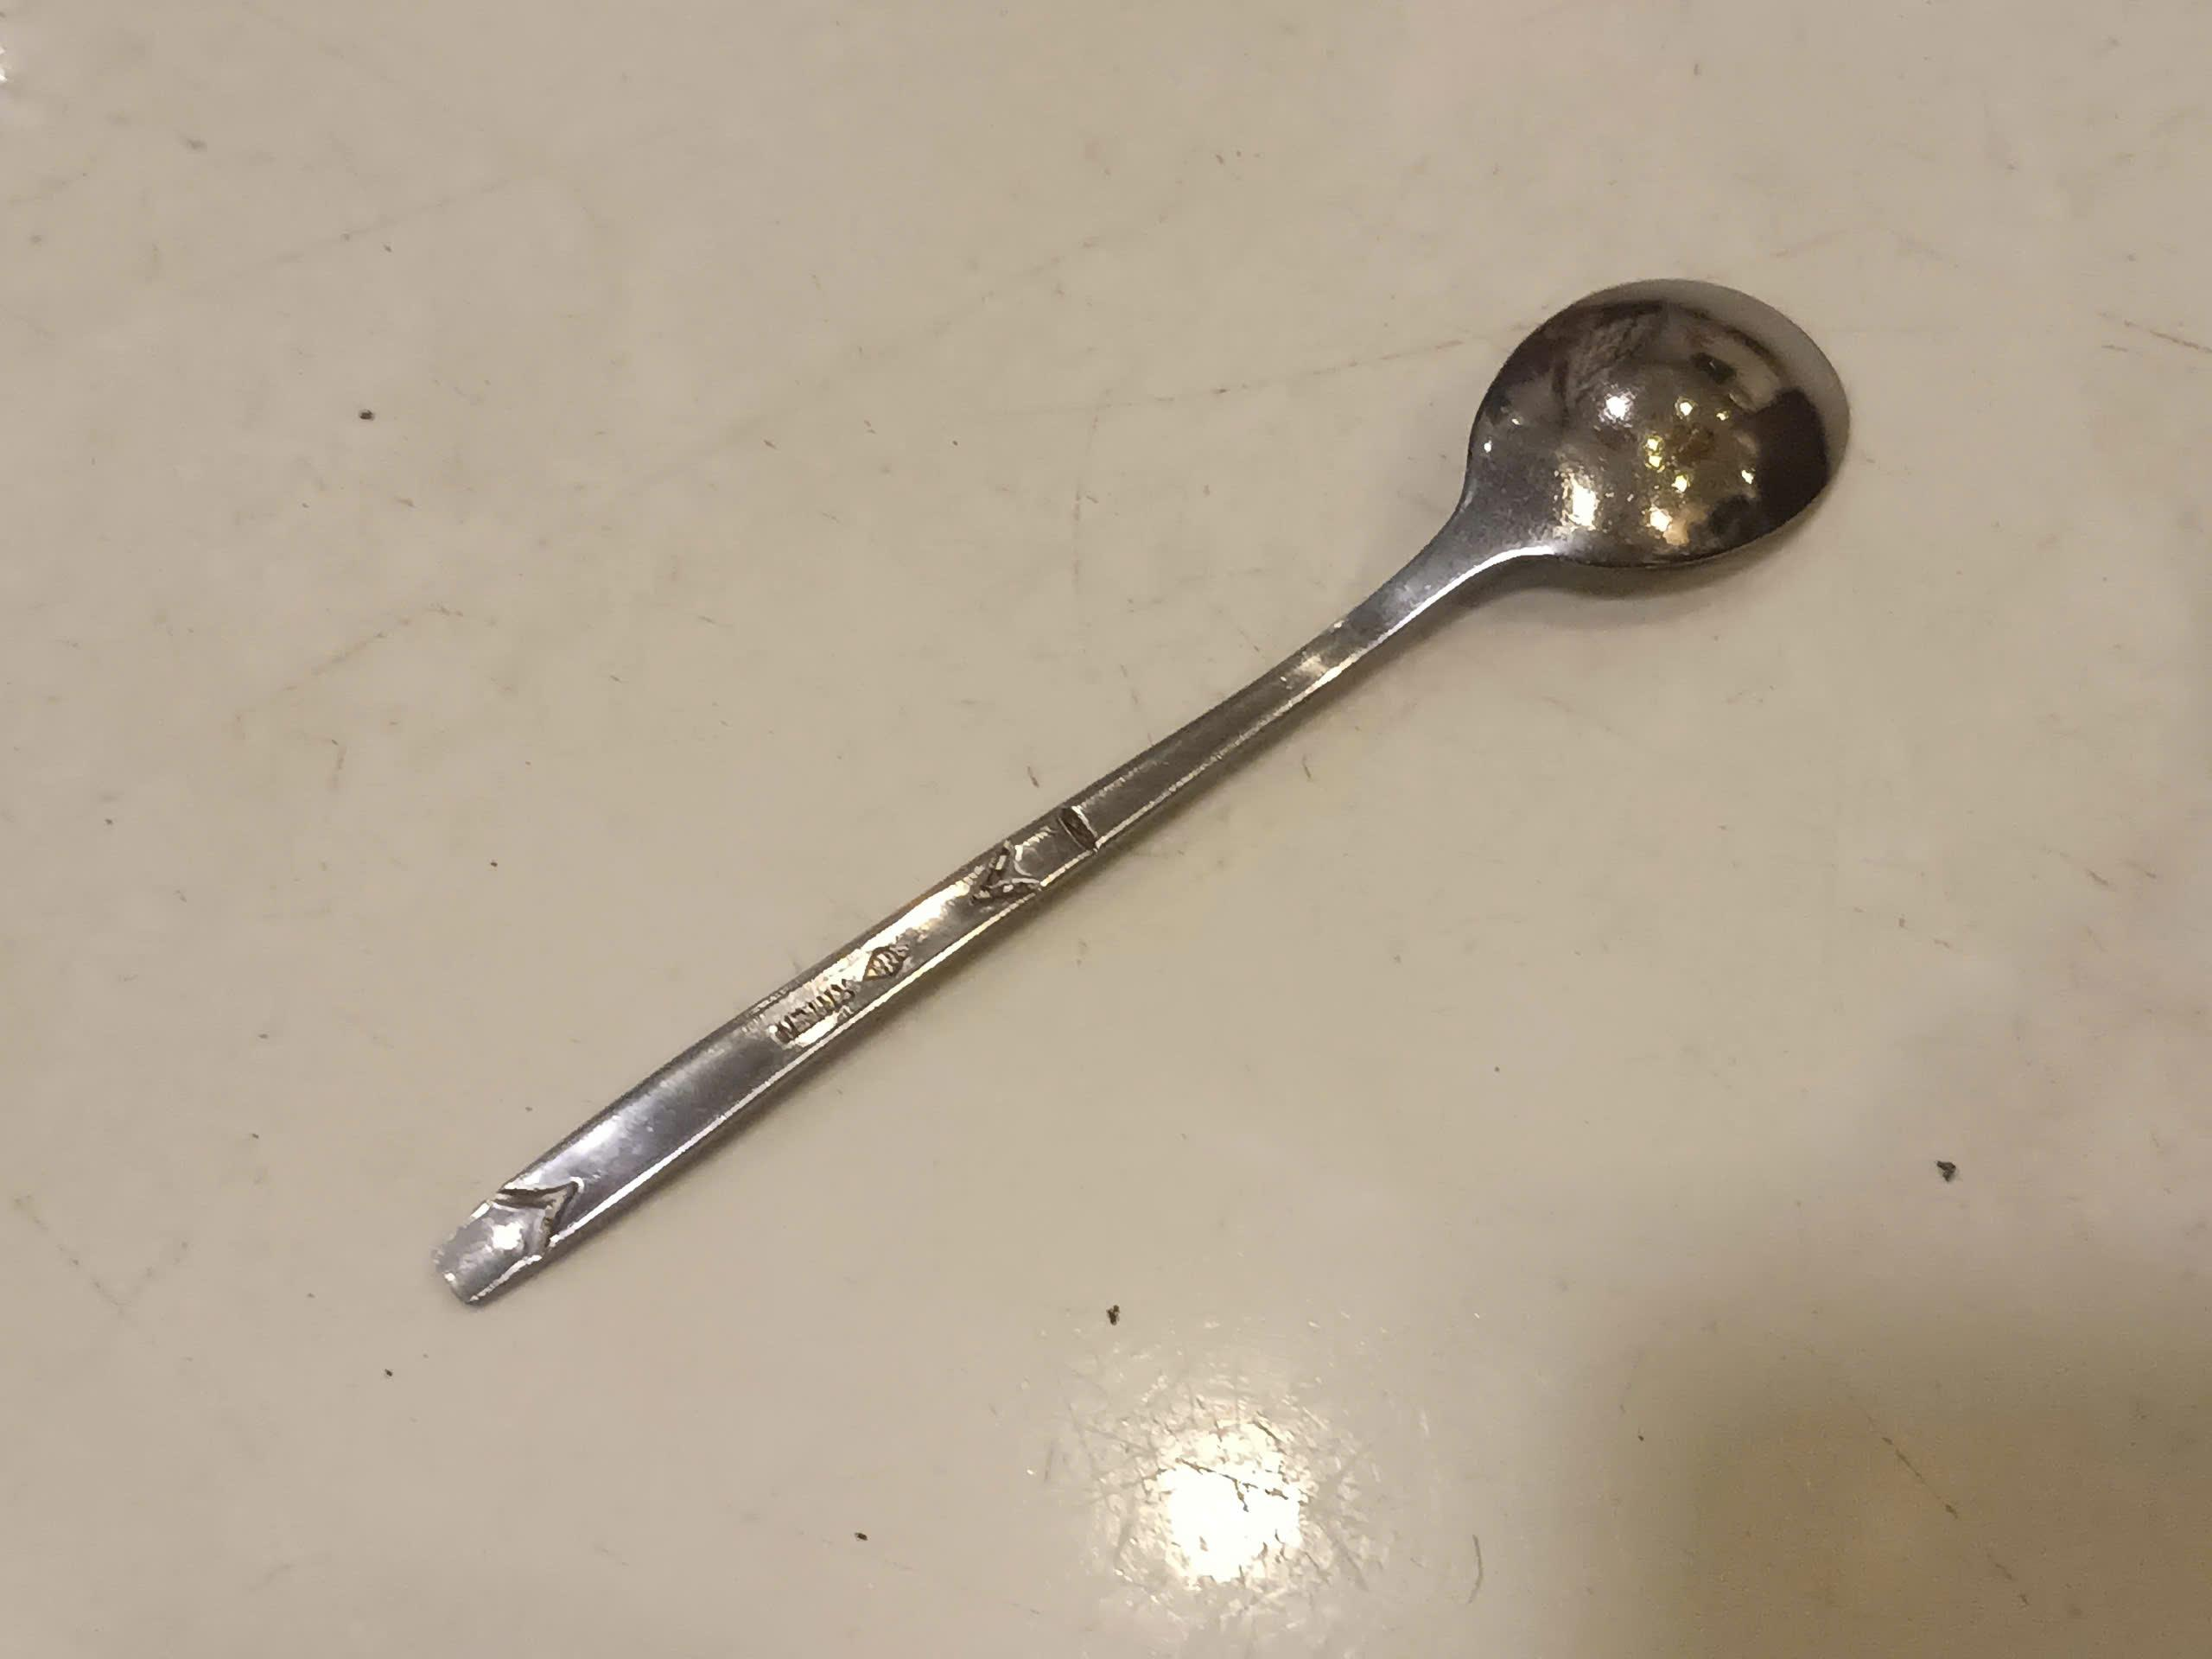Vo co: (449, 274, 1853, 1305)
